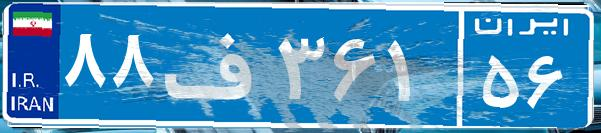1: (385, 28, 445, 110)
3: (273, 28, 330, 110)
5: (475, 38, 525, 113)
6: (330, 28, 385, 110), (525, 38, 570, 115)
8: (57, 26, 110, 107), (110, 28, 158, 105)
ف: (158, 15, 273, 115)
